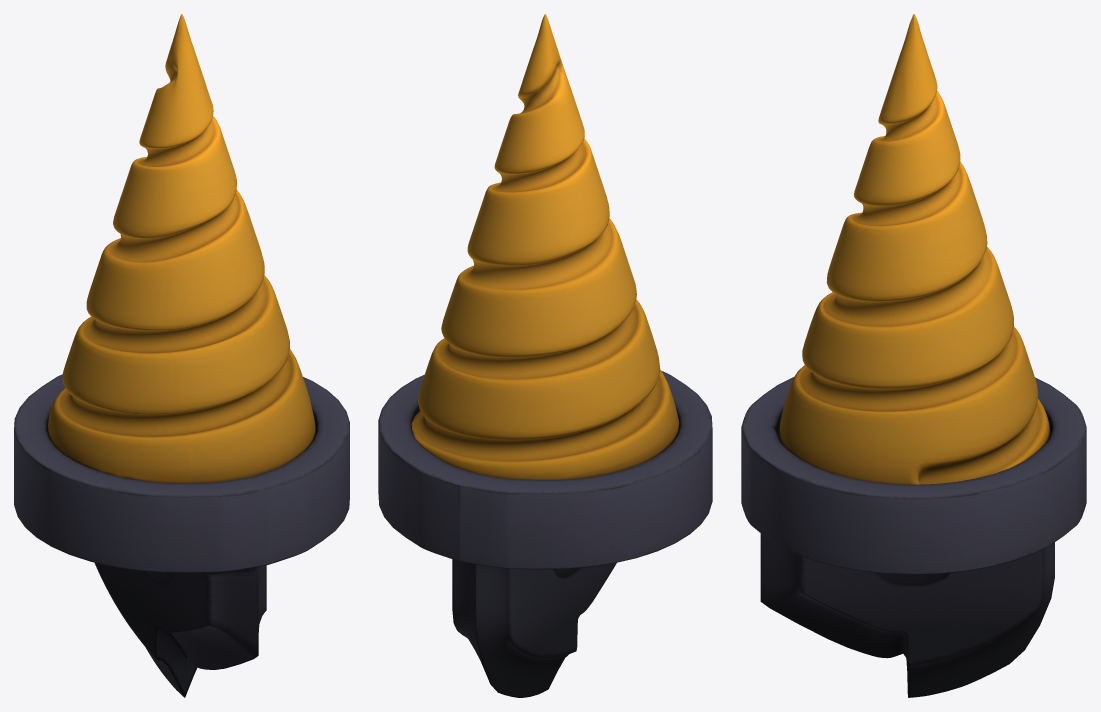
File: core_drill__gurren_lagann.glb
3 views of the same model, side by side, from view 1: azimuth 30°, elevation 25°; view 2: azimuth 150°, elevation 25°; view 3: azimuth 270°, elevation 25° (orthographic).
Visible parts, largest first — view 1: FINAL_DRILL, HIgh_Poly_Handle; view 2: FINAL_DRILL, HIgh_Poly_Handle; view 3: FINAL_DRILL, HIgh_Poly_Handle.
Part boxes in pixels (x1,y1,x2,y2): FINAL_DRILL: (47, 14, 315, 483); HIgh_Poly_Handle: (14, 374, 349, 697); FINAL_DRILL: (411, 14, 679, 479); HIgh_Poly_Handle: (378, 370, 712, 697); FINAL_DRILL: (779, 14, 1050, 484); HIgh_Poly_Handle: (741, 377, 1086, 697).
Bounding box in the file's own units: 0.8692 × 1.94 × 0.8898.
2 materials, 2 textured.
